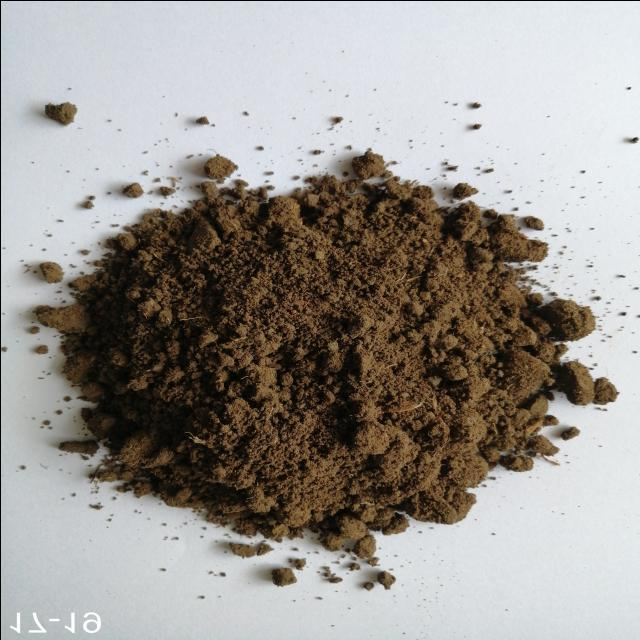soil: (143, 231, 491, 489)
